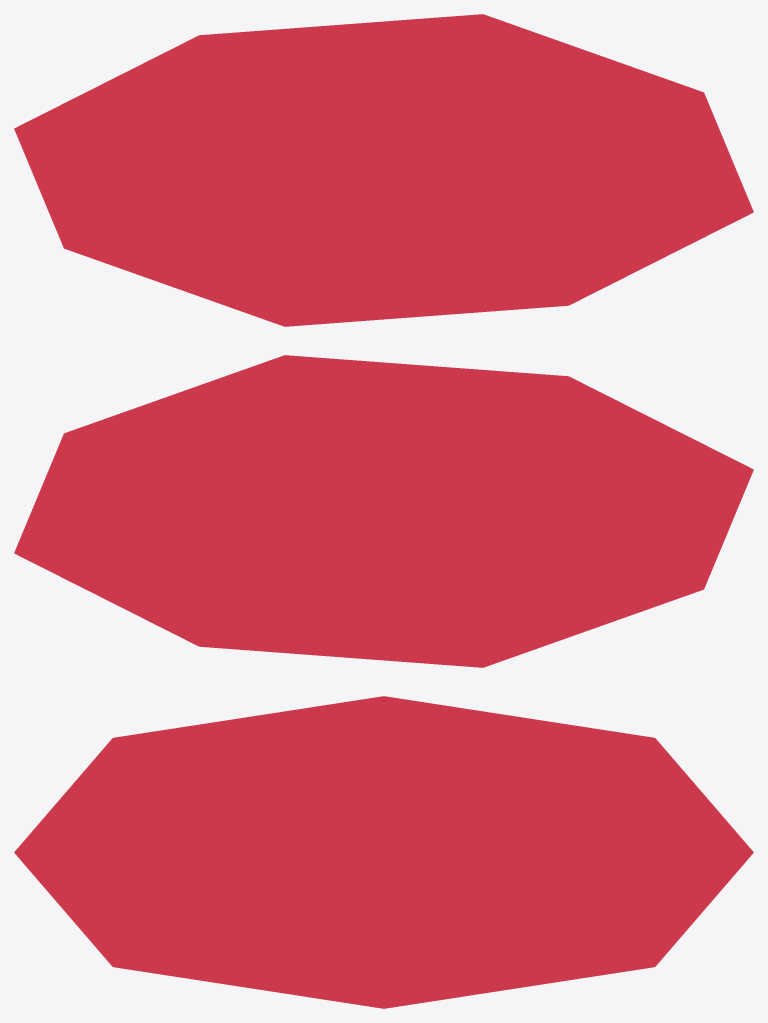
The model's file is rug.glb.
3 renders of one model, top to bottom at view 1: azimuth 30°, elevation 25°; view 2: azimuth 150°, elevation 25°; view 3: azimuth 270°, elevation 25°, orthographic.
Visible parts, largest first — view 1: rug; view 2: rug; view 3: rug.
Boxes of the visible parts, x1,y1,x2,y2 form: rug: (14, 14, 753, 326); rug: (14, 355, 753, 667); rug: (14, 696, 753, 1008).
Bounding box in the file's own units: 7.15 × 5.68e-14 × 7.15.
